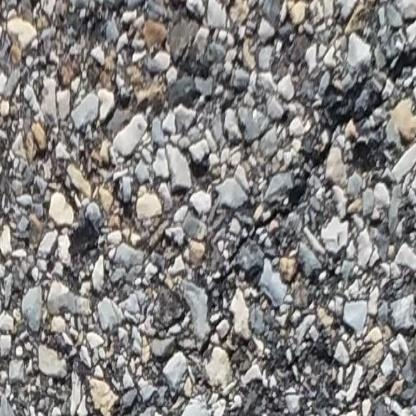Cracks: (272, 28, 416, 207)
